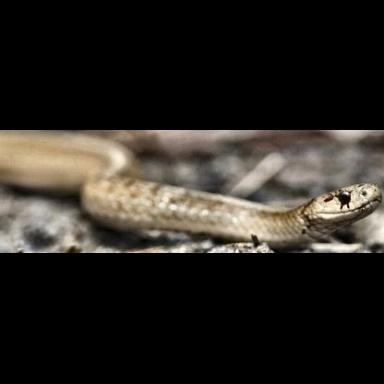snake: (0, 120, 384, 249)
